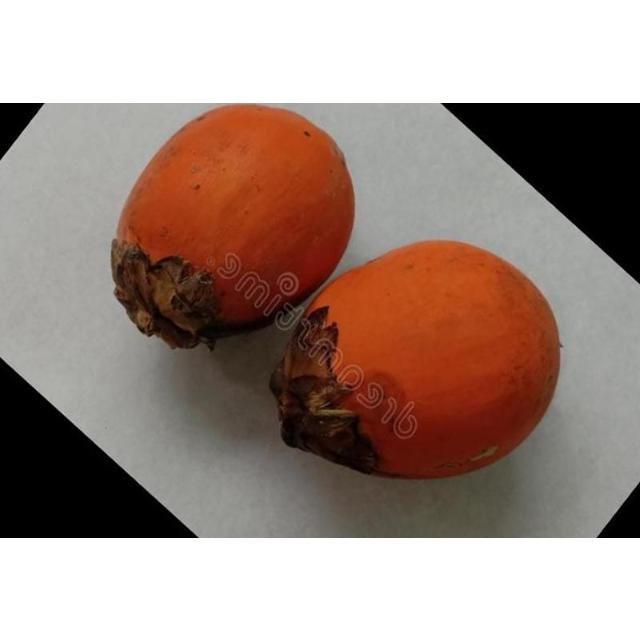good: (270, 239, 563, 480), (110, 104, 356, 350)
